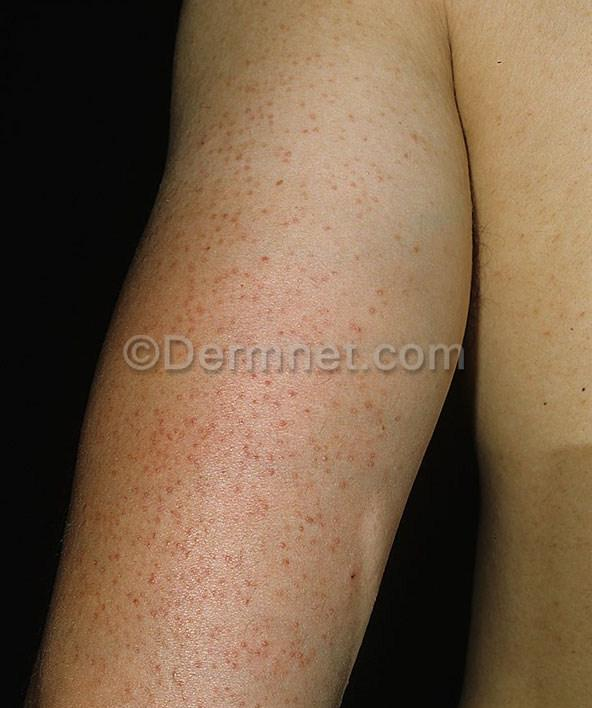edema 1: (31, 57, 394, 708)
